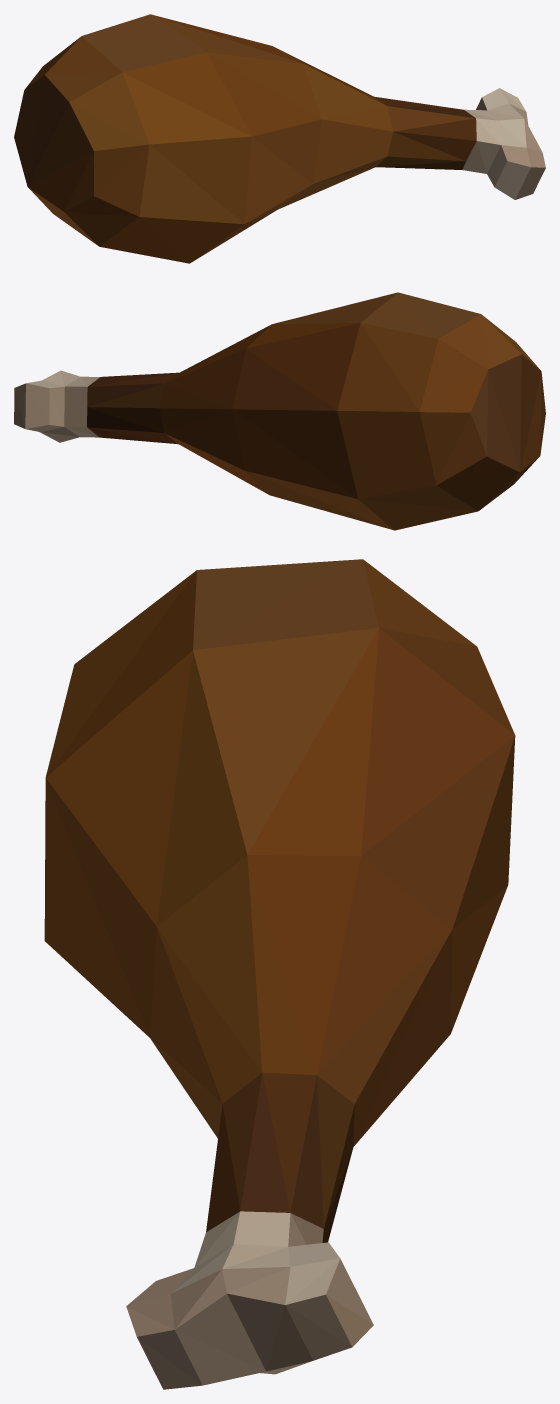
Rendered from prop_food.fbx.
3 renders of one model, top to bottom at view 1: azimuth 30°, elevation 25°; view 2: azimuth 150°, elevation 25°; view 3: azimuth 270°, elevation 25°, orthographic. The views are drawn at different scales.
Visible parts, largest first — view 1: prop_food; view 2: prop_food; view 3: prop_food.
Part boxes in pixels (box(x1,y1,x2,y2)): prop_food: box(14, 14, 545, 263); prop_food: box(14, 292, 545, 530); prop_food: box(44, 559, 515, 1389).
Size of the model in its own units: 1.23 by 0.5243 by 0.505.
